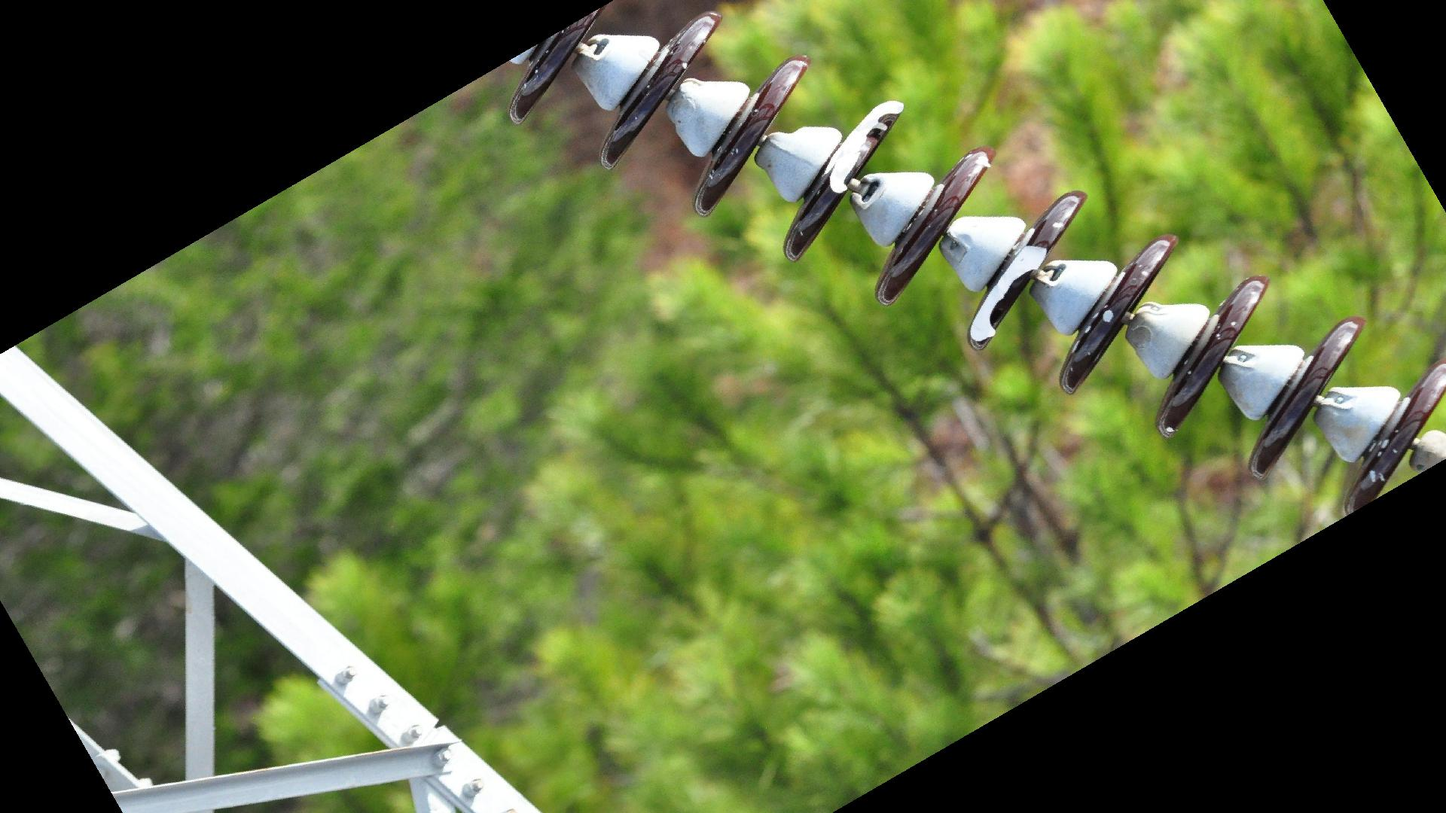insulator: (503, 1, 1446, 526)
insulator_breakage: (965, 236, 1054, 352), (825, 95, 908, 200)
